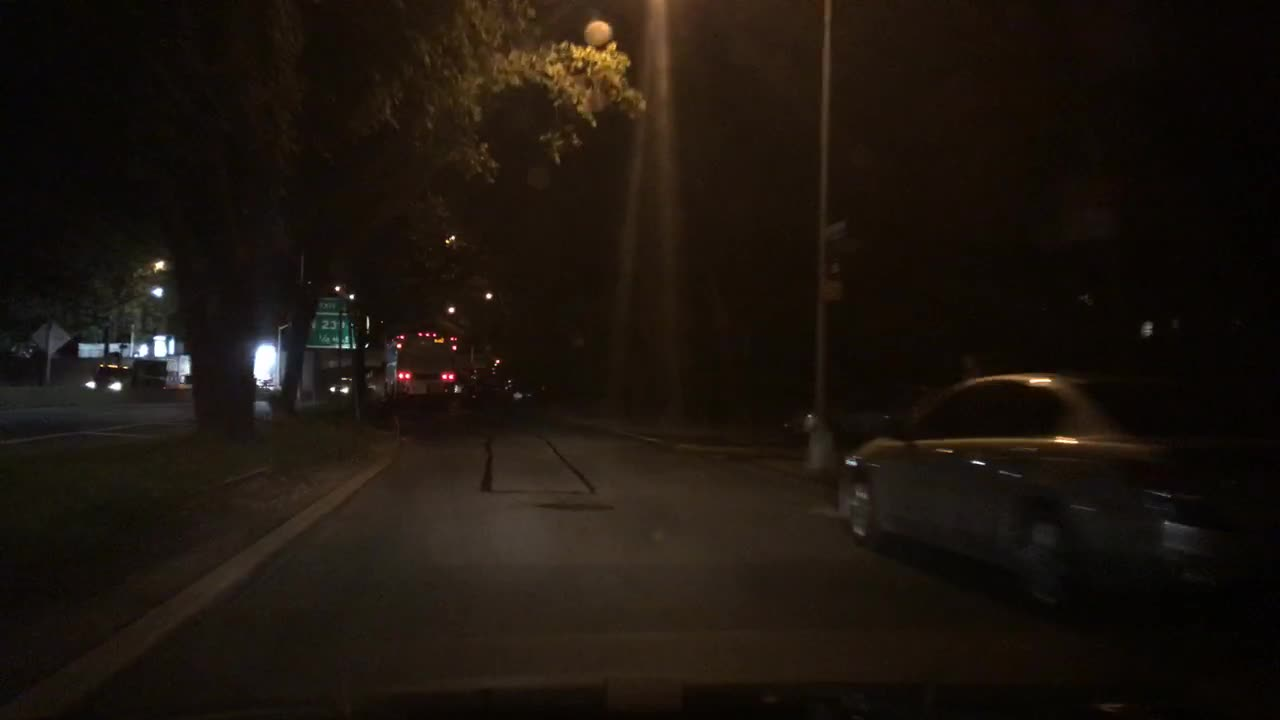bus: (381, 330, 455, 415)
car: (833, 371, 1279, 609), (454, 367, 511, 426), (82, 362, 126, 403), (163, 356, 192, 389), (253, 374, 282, 401), (508, 377, 531, 406), (330, 374, 354, 399)
traffic sign: (298, 295, 371, 349), (28, 318, 69, 356), (823, 227, 843, 293)
truck: (126, 361, 179, 401)
